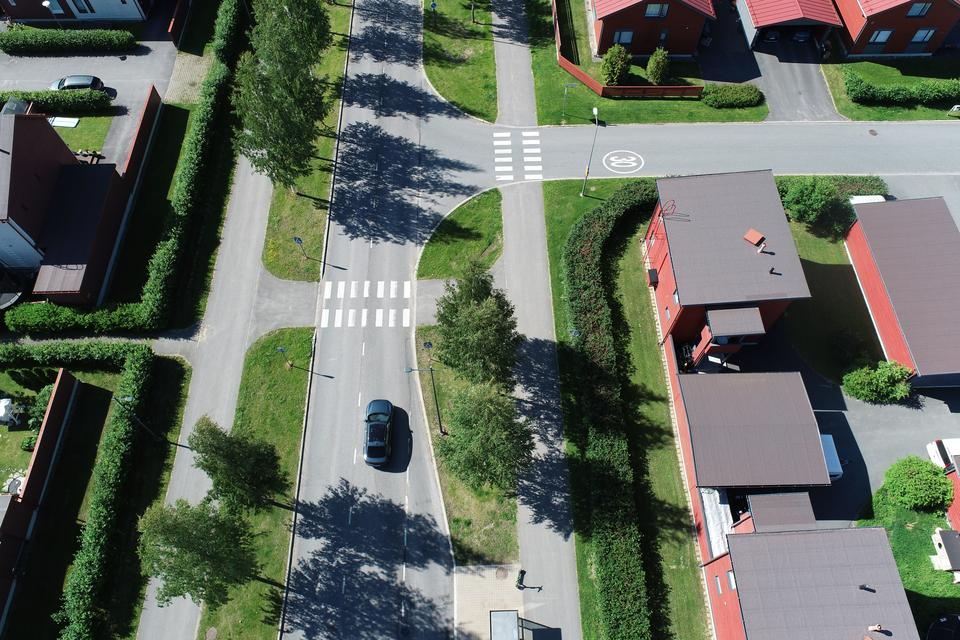intersection: (190, 252, 576, 368), (316, 73, 560, 219)
